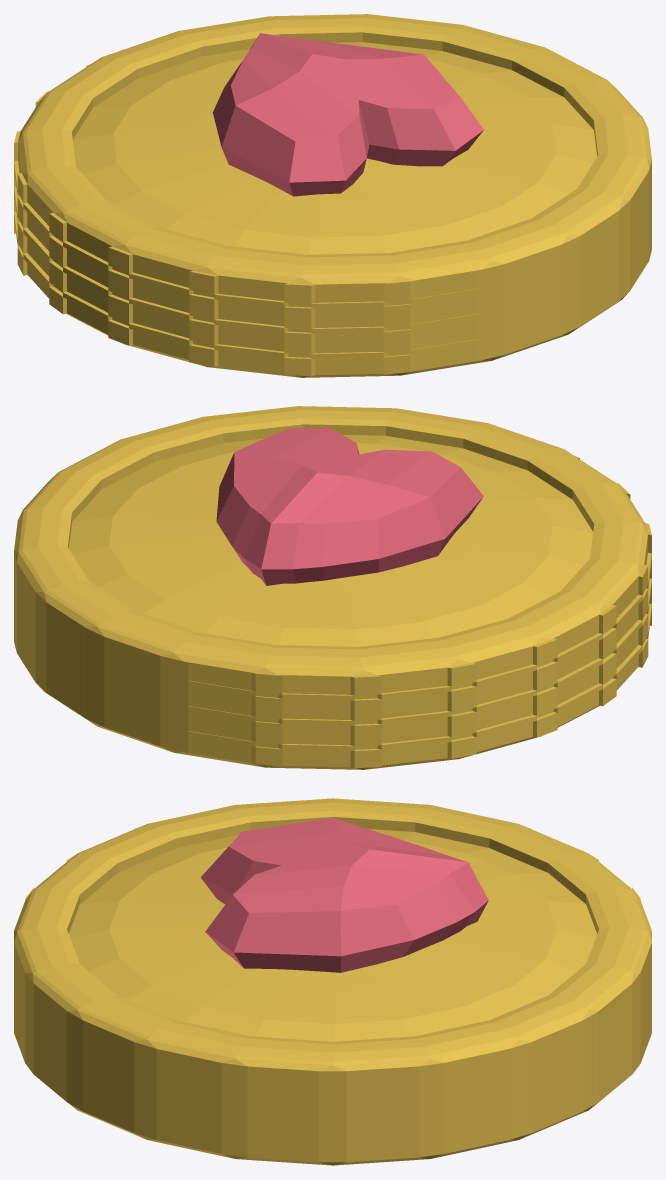
The model's file is heart.fbx.
3 renders of one model, top to bottom at view 1: azimuth 30°, elevation 25°; view 2: azimuth 150°, elevation 25°; view 3: azimuth 270°, elevation 25°, orthographic.
Visible parts, largest first — view 1: icon.001, heart.002; view 2: icon.001, heart.002; view 3: icon.001, heart.002.
Part boxes in pixels (x1,y1,x2,y2): icon.001: (14, 14, 651, 377); heart.002: (212, 33, 483, 196); icon.001: (14, 406, 651, 769); heart.002: (216, 428, 483, 585); icon.001: (14, 798, 651, 1165); heart.002: (200, 817, 488, 972).
Size of what is drawn, in the model's own units: 94.33 by 31.73 by 93.65.
